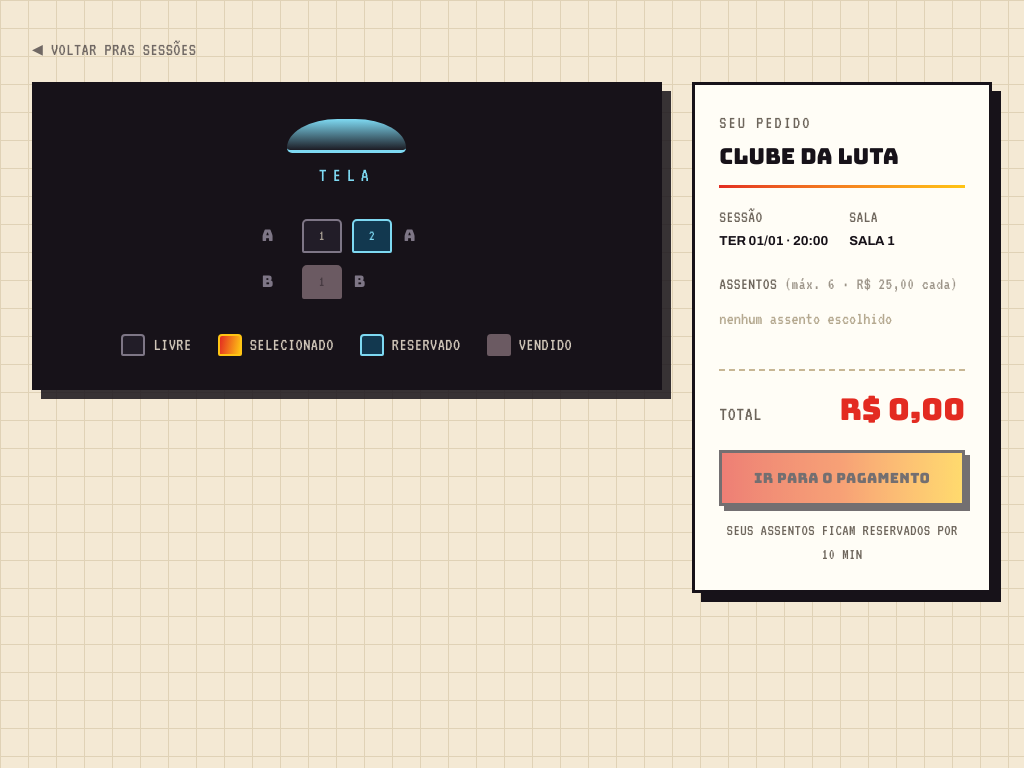
Test: MapaAssentosPage › selects and deselects a free seat on click, enabling the confirm button only with a selection
Expected: the button "IR PARA O PAGAMENTO" is disabled, [719, 450, 965, 506]
Click the button named "Assento A1 — livre" at (322, 236), box [302, 219, 342, 253]
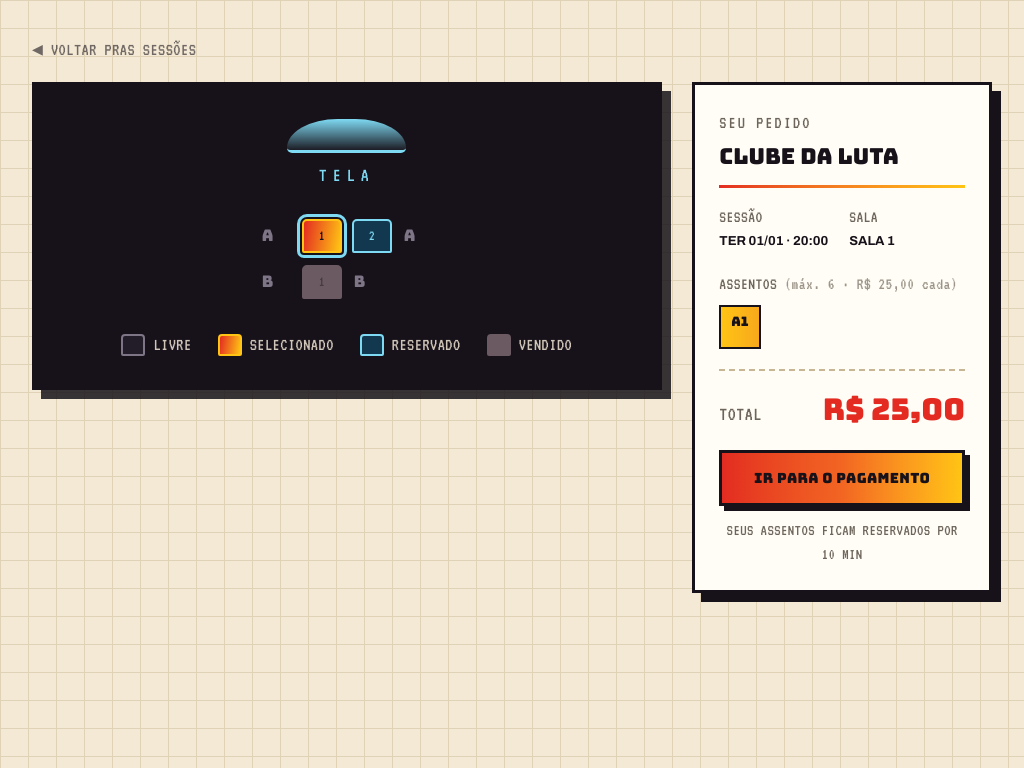
Expected: the button "IR PARA O PAGAMENTO" is enabled, [719, 450, 965, 506]
Click the button named "Assento A1 — livre" at (322, 236), box [302, 219, 342, 253]
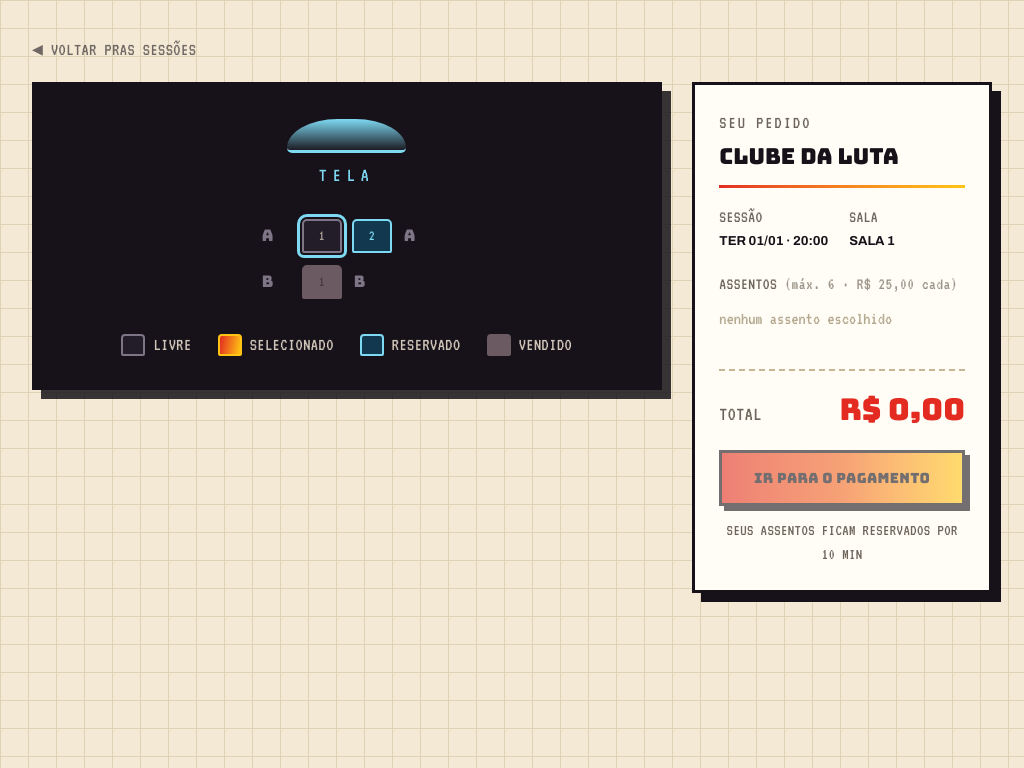
Expected: the button "IR PARA O PAGAMENTO" is disabled, [719, 450, 965, 506]
